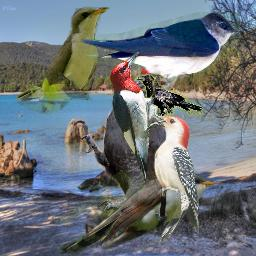Crow: (135, 74, 203, 116)
Cuckoo: (55, 171, 214, 254), (17, 4, 111, 115)
Swallow: (80, 12, 241, 91)
Woodpecker: (72, 50, 183, 220), (109, 52, 165, 186), (145, 110, 199, 245)
